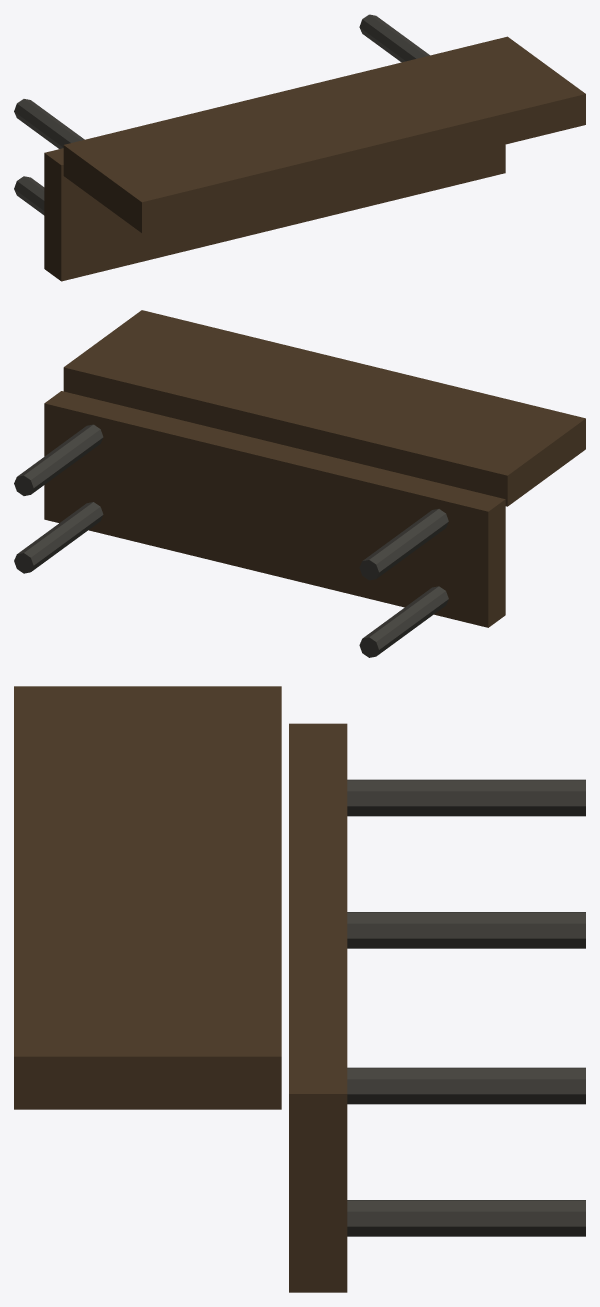
Rendered from bench_urban_worn.obj.
The picture shows the model from 3 angles, top to bottom: view 1: azimuth 30°, elevation 25°; view 2: azimuth 150°, elevation 25°; view 3: azimuth 270°, elevation 25°; orthographic projection. The views are drawn at different scales.
Size of the model in its own units: 1.8 by 0.535 by 1.17.
